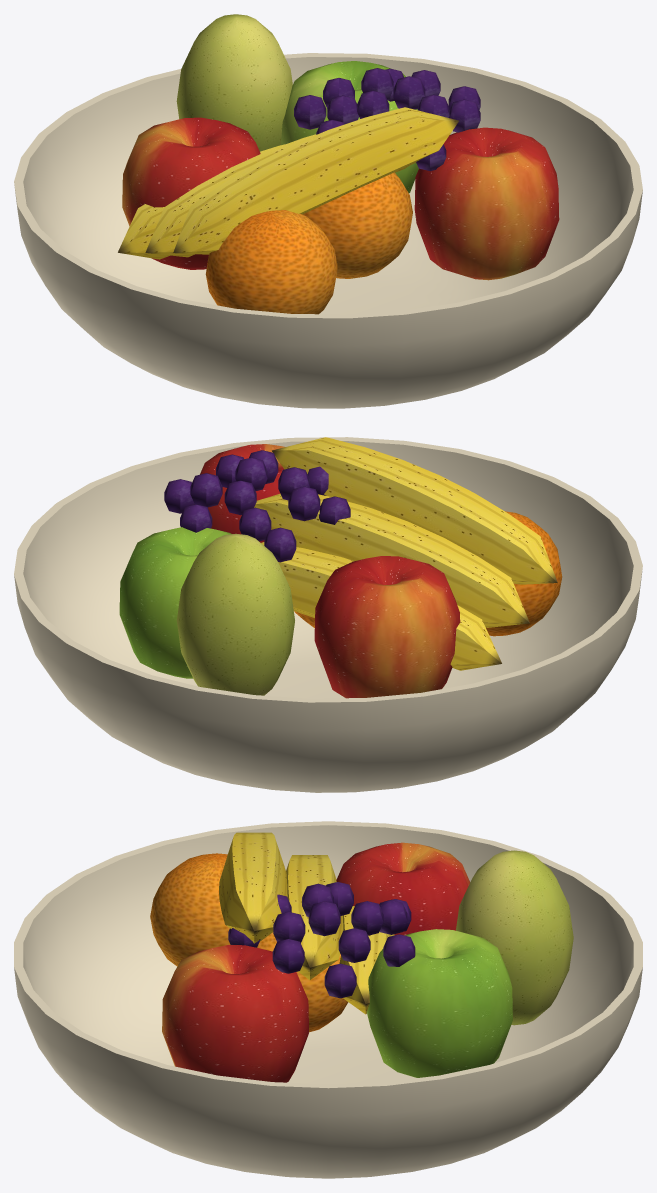
Rendered from tray_fruit_bowl_mixed.glb.
3 renders of one model, top to bottom at view 1: azimuth 30°, elevation 25°; view 2: azimuth 150°, elevation 25°; view 3: azimuth 270°, elevation 25°, orthographic.
Visible parts, largest first — view 1: tray_fruit_bowl_mixed; view 2: tray_fruit_bowl_mixed; view 3: tray_fruit_bowl_mixed.
Boxes of the visible parts, x1,y1,x2,y2 form: tray_fruit_bowl_mixed: (14,14,642,408); tray_fruit_bowl_mixed: (14,437,642,792); tray_fruit_bowl_mixed: (14,821,642,1178).
Bounding box in the file's own units: 0.34 × 0.15 × 0.3385.
Materials: 7 (6 with a texture image).
